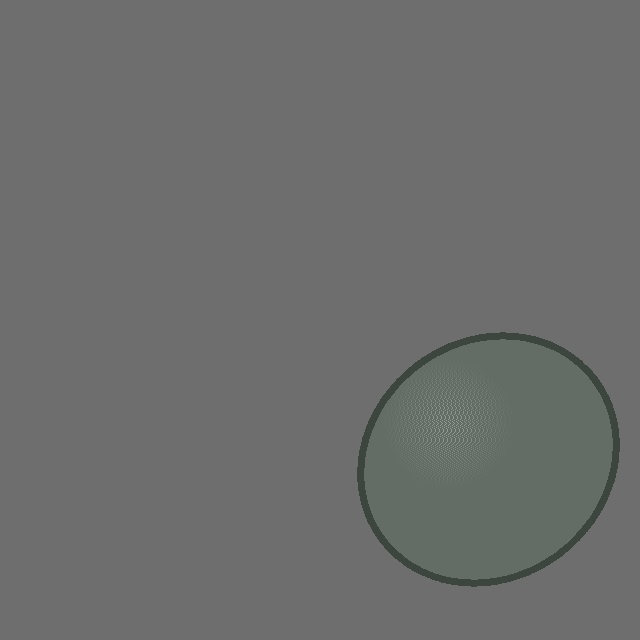lens: (361, 336, 615, 582)
